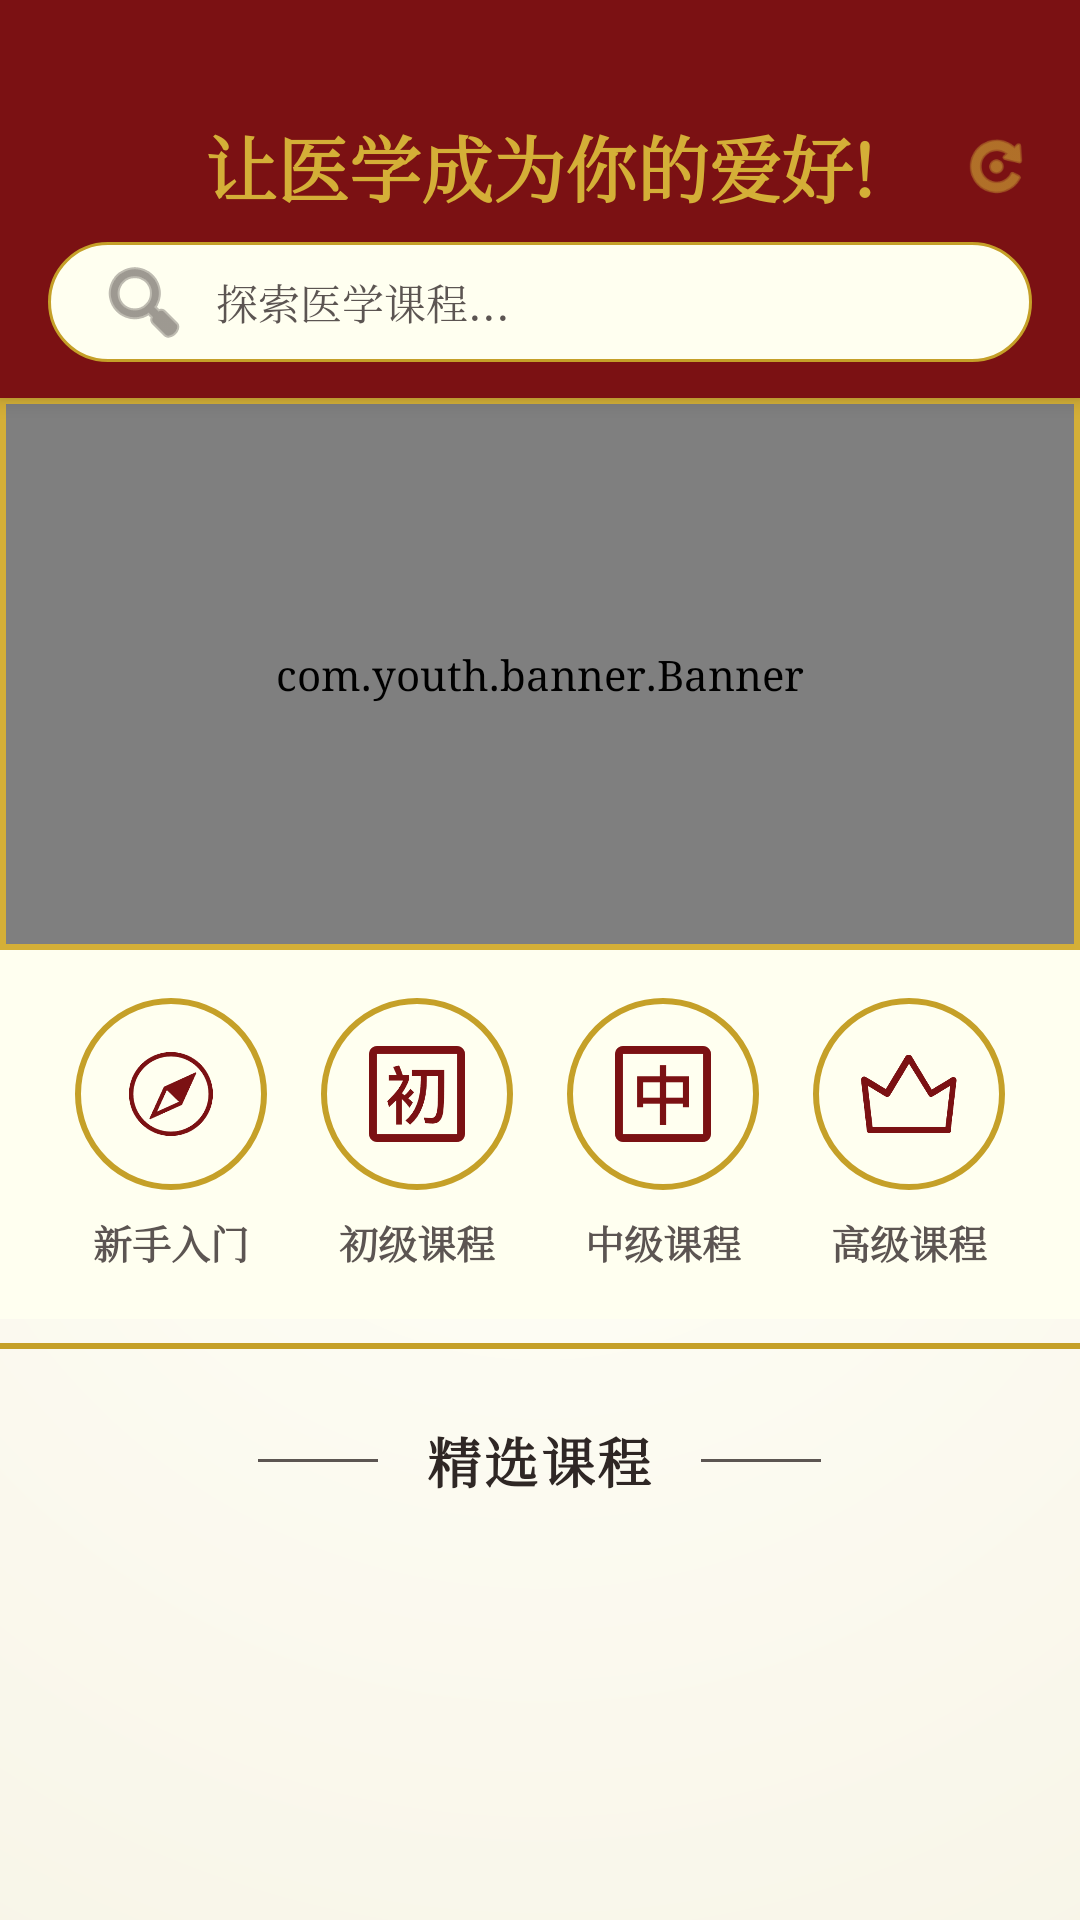

Point at icon controls on the screen. Image size 1080x1920, points as (x=x, y=y).
rotate: (x=996, y=166)
